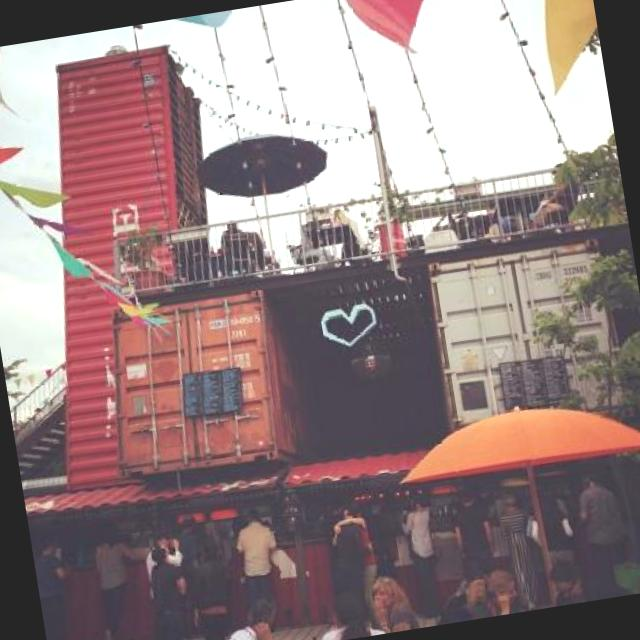Person: (88, 519, 164, 640), (568, 463, 631, 581), (230, 506, 288, 630), (393, 492, 448, 620), (326, 503, 379, 624), (491, 492, 542, 607), (137, 544, 197, 640), (31, 535, 83, 640), (542, 548, 633, 607), (518, 162, 584, 235), (173, 515, 210, 626), (449, 492, 499, 573), (526, 487, 576, 568), (311, 587, 382, 640), (453, 568, 519, 621), (205, 593, 273, 640), (371, 572, 421, 634), (212, 218, 255, 274), (202, 520, 224, 566)
